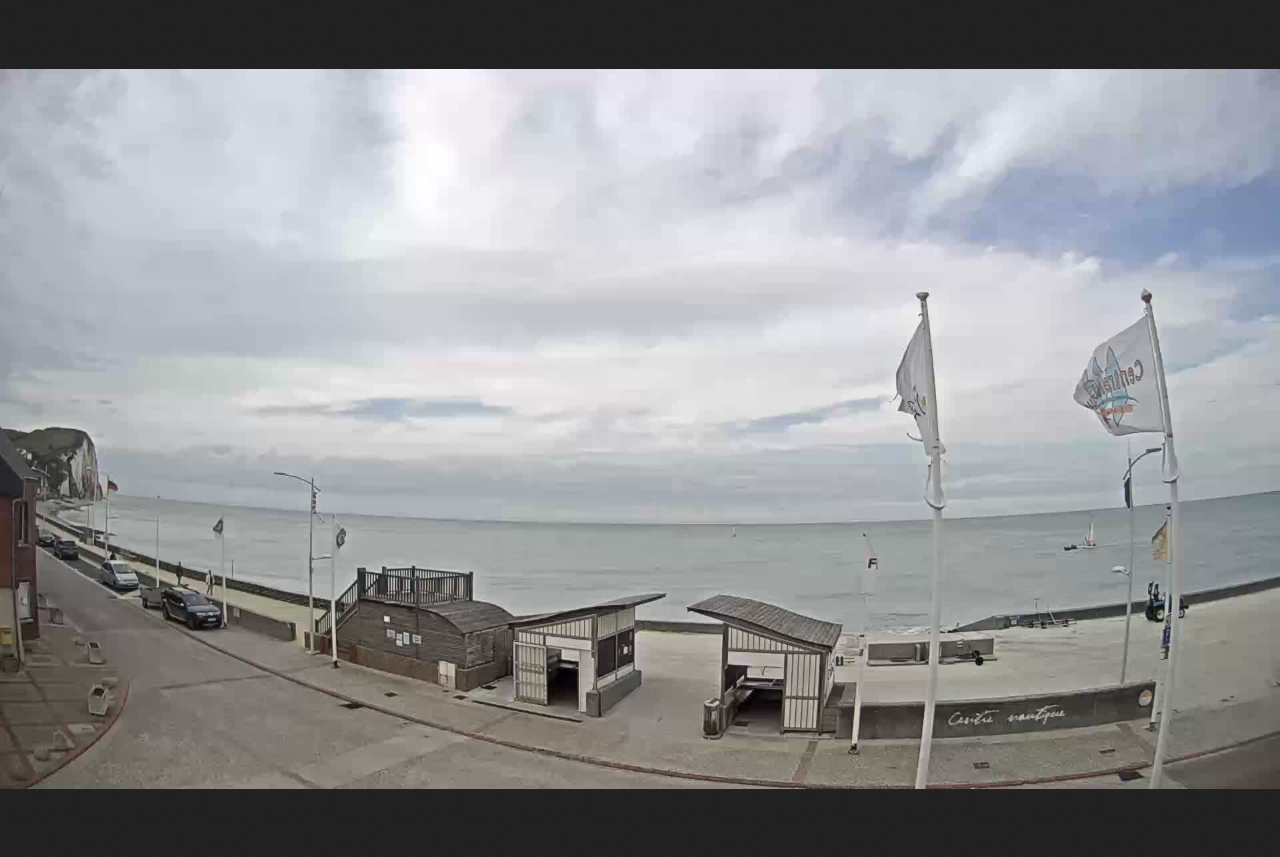maybe: (1148, 519, 1174, 559)
no: (857, 535, 882, 596)
yes: (1070, 314, 1174, 437), (894, 317, 934, 452)
